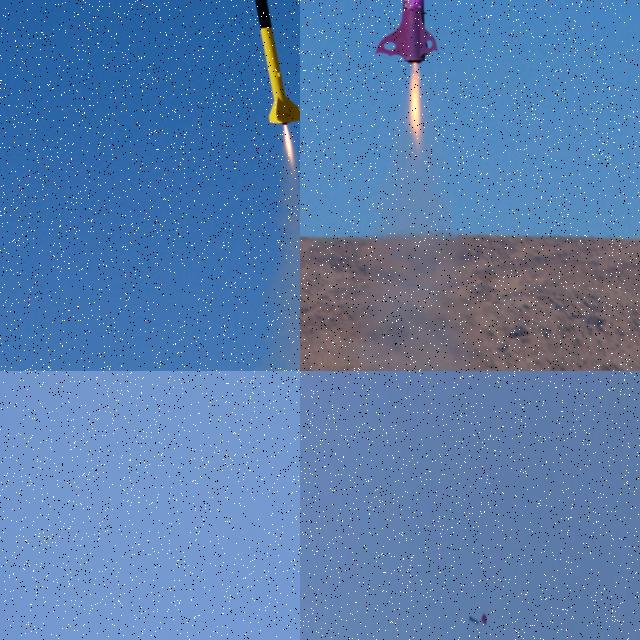Rocket: (246, 0, 300, 126), (374, 0, 440, 64), (469, 616, 479, 624)
